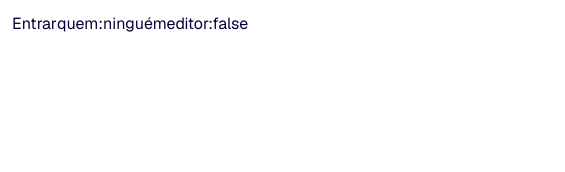
AuthProvider › reports when a successful login has no valid synchronized session
This screenshot has width=565, height=172.
Click the button "Entrar".
click(34, 24)  # box [12,12,57,36]
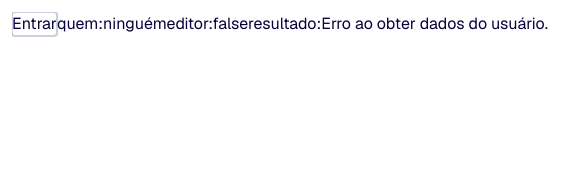
Check: the text "resultado:Erro ao obter dados do usuário." is shown, box [248,13,548,34]
